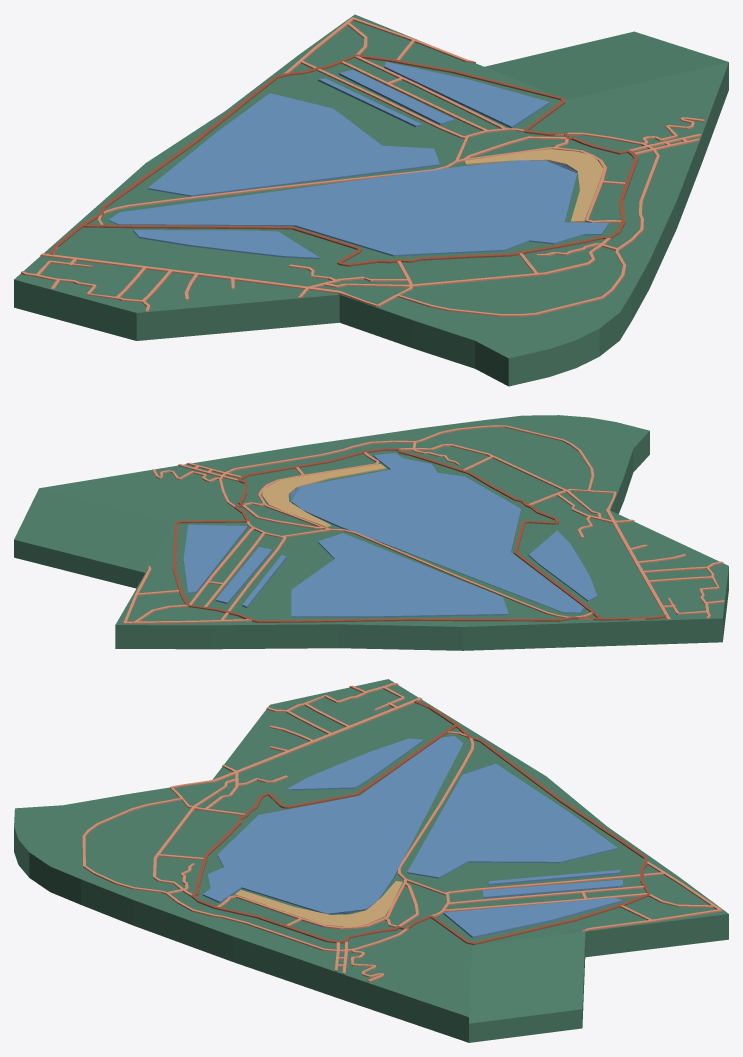
File: MapZuiderbadV4.glb
3 renders of one model, top to bottom at view 1: azimuth 30°, elevation 25°; view 2: azimuth 150°, elevation 25°; view 3: azimuth 270°, elevation 25°, orthographic. The views are drawn at different scales.
Parts seen in each view (by area): view 1: base.001, water.007, water.008, walk, path.007, water.011, water.009, beach.001, water.012, Cube.018, Cube.010, Cube.001 (+3 smaller); view 2: base.001, water.007, water.008, walk, path.007, water.011, water.009, beach.001, water.012, Cube.018, Cube.010, water.013; view 3: base.001, water.007, water.008, walk, path.007, water.011, water.009, beach.001, water.012, Cube.010, Cube.001, water.013 (+2 smaller).
Boxes of the visible parts, box(x1,y1,x2,y2) form: base.001: box(14, 14, 728, 386); water.007: box(108, 160, 609, 256); water.008: box(147, 93, 439, 196); walk: box(49, 54, 638, 266); path.007: box(40, 128, 659, 316); water.011: box(384, 62, 549, 128); water.009: box(133, 230, 320, 259); beach.001: box(464, 149, 603, 222); water.012: box(339, 70, 454, 125); Cube.018: box(324, 238, 610, 287); Cube.010: box(465, 147, 621, 223); Cube.001: box(299, 60, 466, 138); base.001: box(14, 415, 728, 650); water.007: box(291, 453, 583, 613); water.008: box(291, 533, 508, 617); walk: box(172, 448, 666, 622); path.007: box(219, 425, 670, 620); water.011: box(183, 524, 247, 594); water.009: box(528, 530, 597, 601); beach.001: box(262, 464, 386, 527); water.012: box(215, 547, 272, 604); Cube.018: box(399, 444, 601, 518); Cube.010: box(258, 452, 379, 527); water.013: box(242, 555, 286, 607); base.001: box(14, 679, 728, 1042); water.007: box(203, 736, 463, 914); water.008: box(407, 763, 617, 878); walk: box(191, 700, 650, 945); path.007: box(82, 697, 474, 952); water.011: box(443, 897, 622, 938); water.009: box(286, 738, 423, 790); beach.001: box(235, 881, 402, 926); water.012: box(482, 879, 622, 898); Cube.010: box(217, 881, 405, 929); Cube.001: box(445, 872, 663, 894); water.013: box(488, 869, 621, 885).
Size of the model in its own units: 16.21 by 0.6114 by 14.48.
